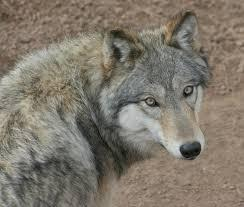Wolf: (1, 10, 208, 207)
